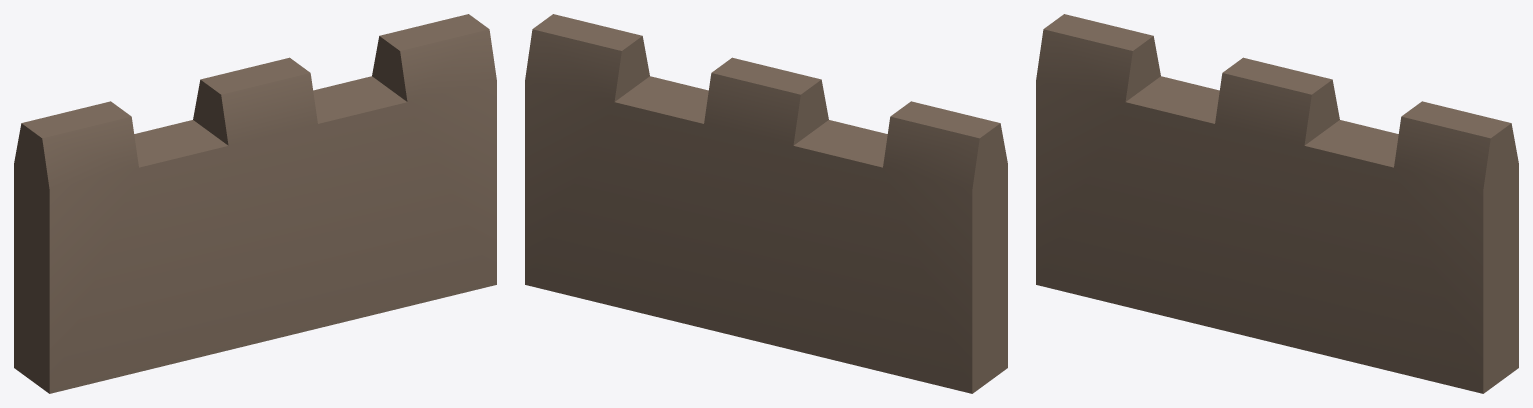
File: house_wall_destruction(short).FBX
The picture shows the model from 3 angles, left to right: view 1: azimuth 30°, elevation 25°; view 2: azimuth 150°, elevation 25°; view 3: azimuth 330°, elevation 25°; orthographic projection.
Parts seen in each view (by area): view 1: Box001; view 2: Box001; view 3: Box001.
Part boxes in pixels (x1,y1,x2,y2): Box001: (14, 14, 496, 393); Box001: (525, 14, 1007, 393); Box001: (1036, 14, 1518, 393).
Size of the model in its own units: 170 by 90.69 by 23.33.
